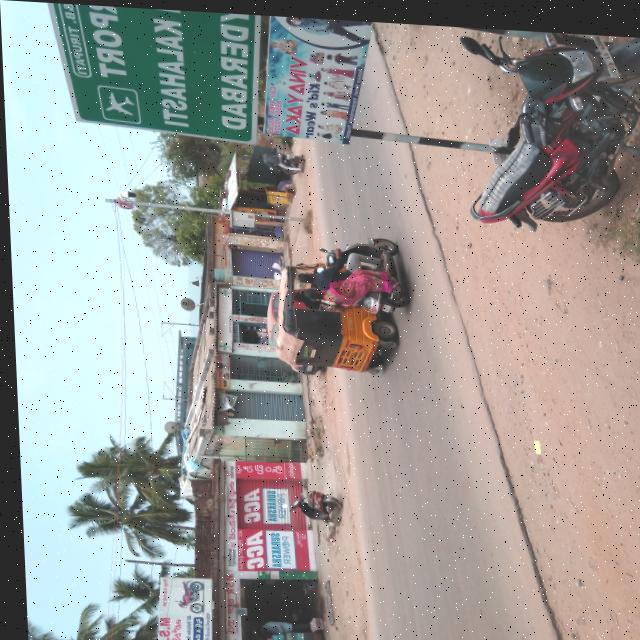plate: (592, 28, 619, 71), (342, 348, 354, 362), (379, 300, 390, 309)
